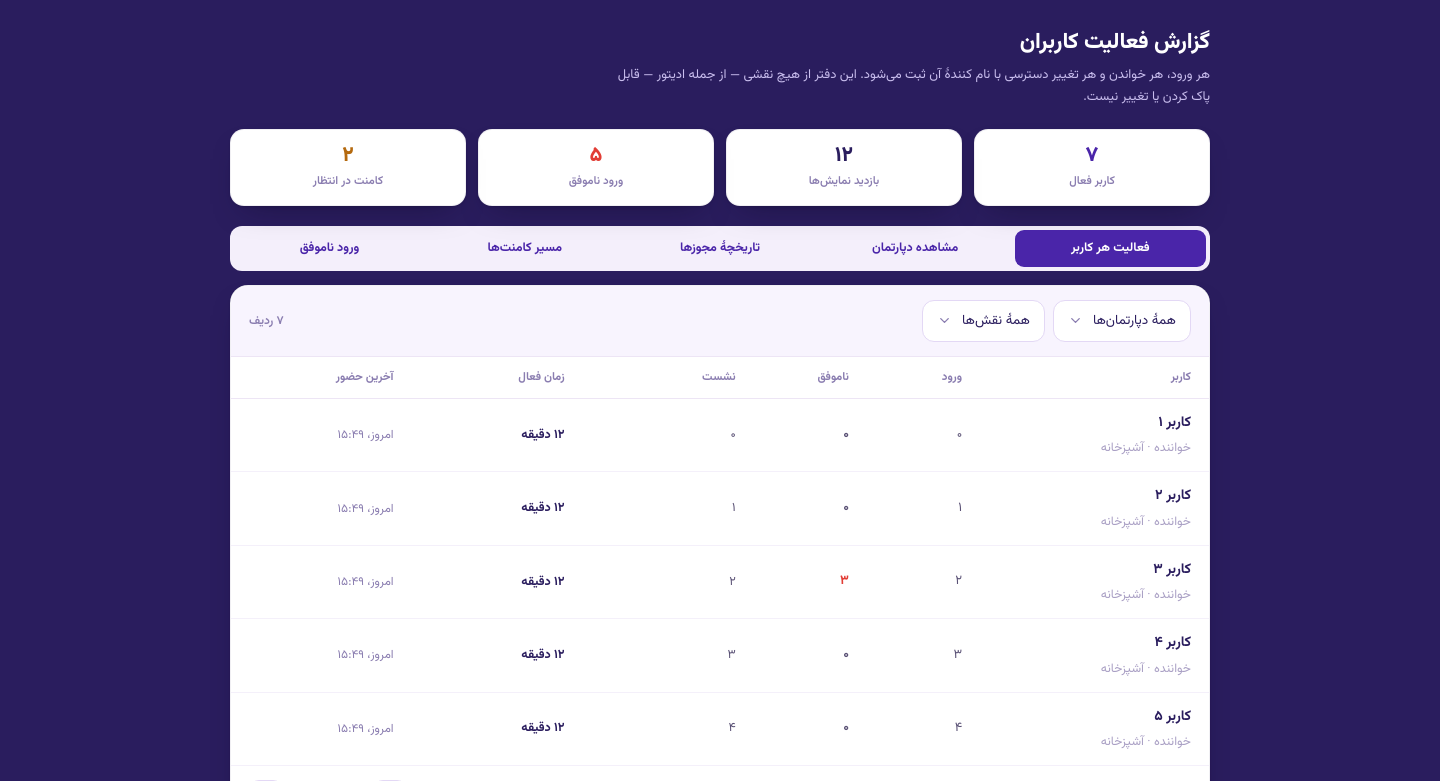
it: Activity › lists failed sign-ins in their own tab
Click the tab "ورود ناموفق" at {"x": 330, "y": 248}, box [234, 230, 425, 267]
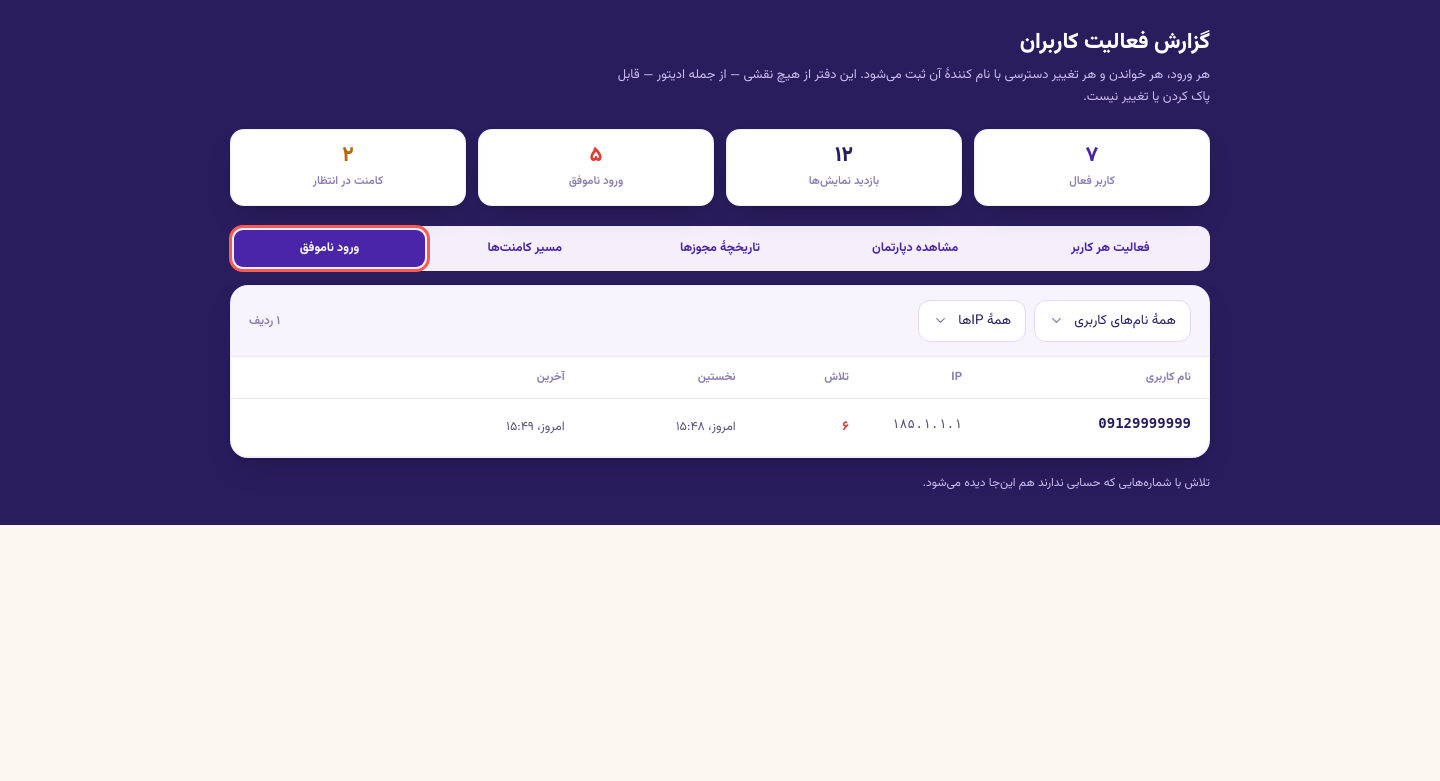
Result: the text "09129999999" is shown at [1098, 412, 1191, 434]
Result: the text "۶" is shown at [842, 417, 849, 437]
Result: the text "۱۸۵.۱.۱.۱" is shown at [892, 414, 962, 433]
